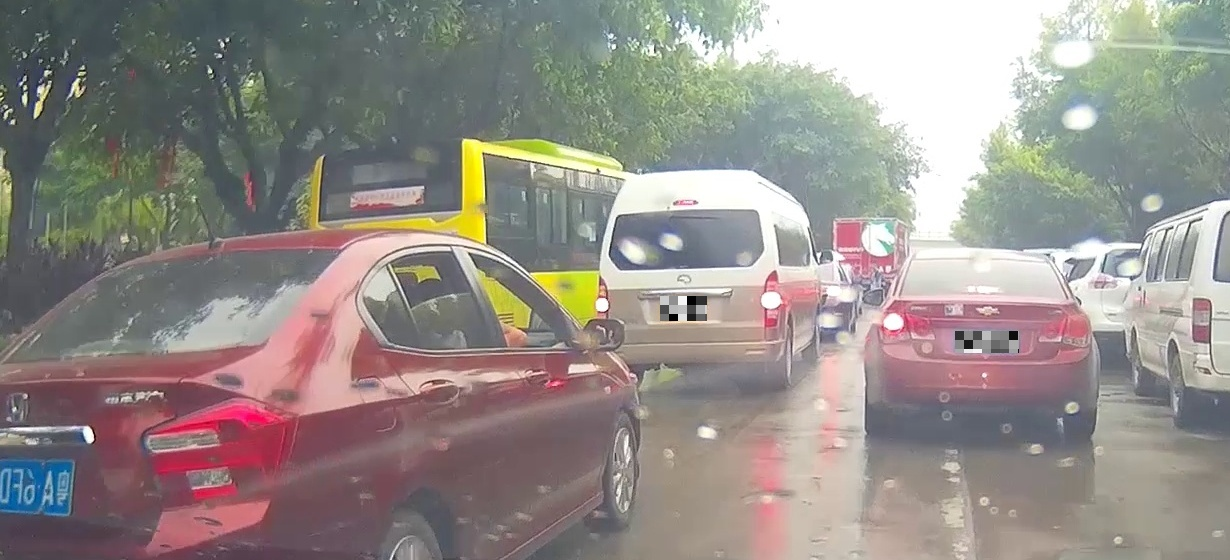L_light: (879, 309, 935, 343), (596, 275, 610, 319)
R_light: (1038, 312, 1092, 347), (760, 269, 783, 328)
T_light: (967, 286, 1001, 294), (672, 199, 699, 206)
day-brake: (593, 169, 785, 390)
day-left: (866, 247, 1100, 439)
plate_1: (660, 296, 707, 321)
plate_2: (955, 331, 1019, 353)
